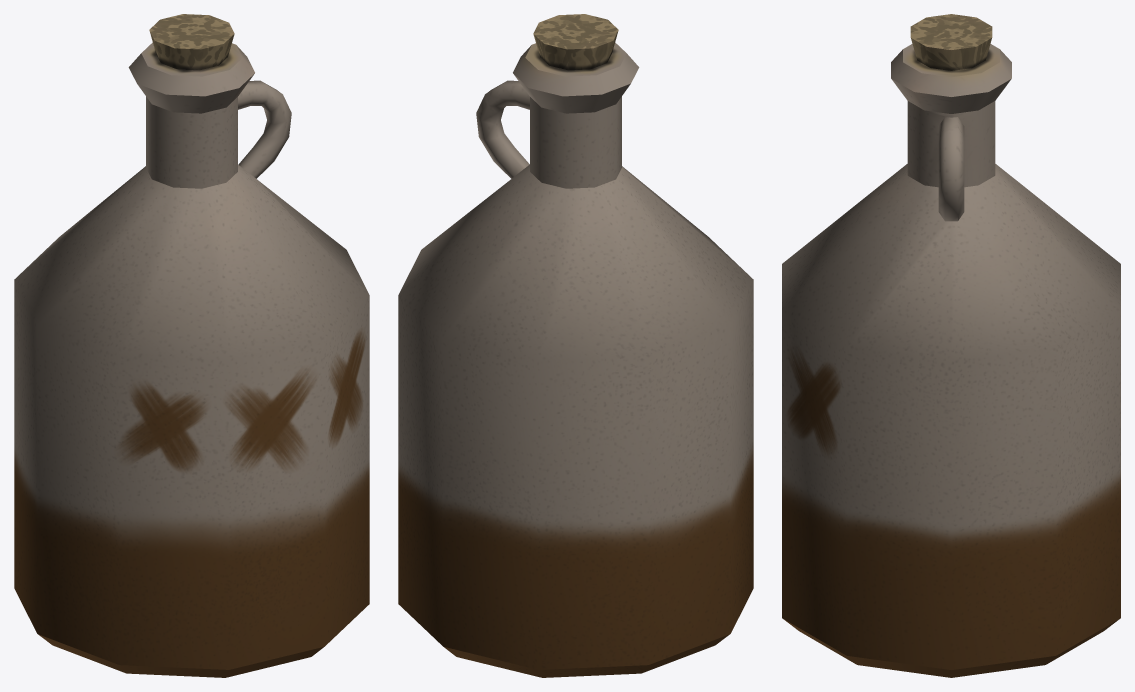
File: Bottle.fbx
3 renders of one model, left to right at view 1: azimuth 30°, elevation 25°; view 2: azimuth 150°, elevation 25°; view 3: azimuth 270°, elevation 25°, orthographic.
Parts seen in each view (by area): view 1: pCylinder3; view 2: pCylinder3; view 3: pCylinder3.
Boxes of the visible parts, x1=… form: pCylinder3: x1=14, y1=14, x2=369, y2=677; pCylinder3: x1=398, y1=14, x2=753, y2=677; pCylinder3: x1=782, y1=14, x2=1120, y2=677.
Size of the model in its own units: 2 by 1.9 by 3.58.
Materials: 1 (1 with a texture image).
